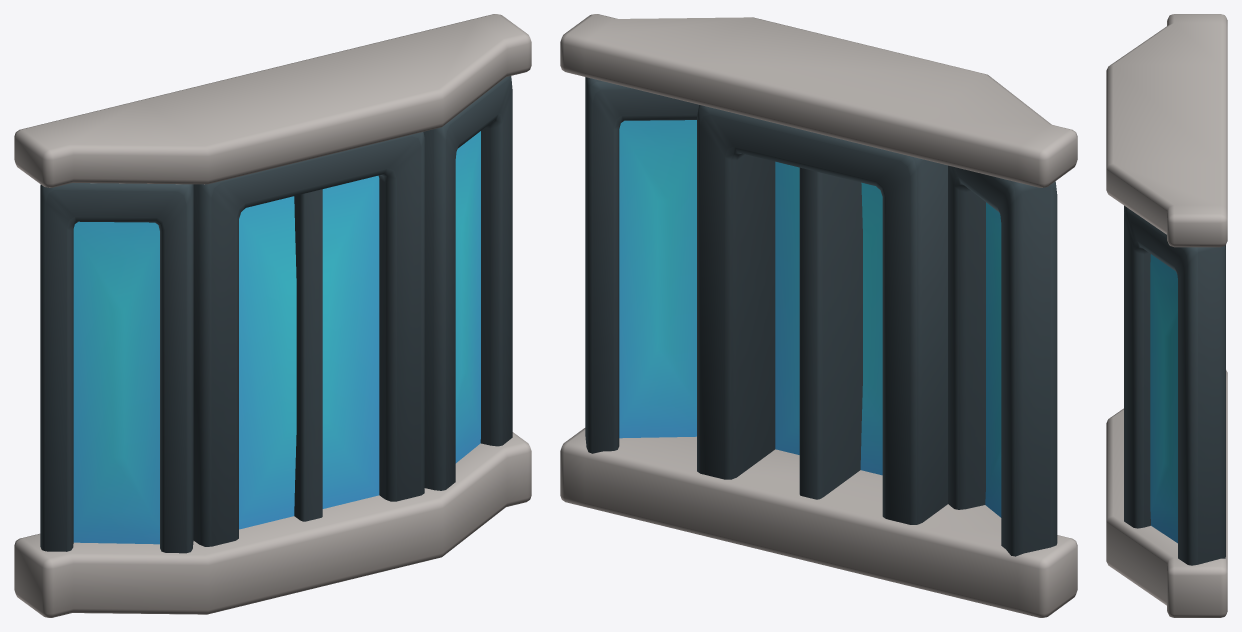
Rendered from mct_homepart_window03.fbx.
3 views of the same model, side by side, from view 1: azimuth 30°, elevation 25°; view 2: azimuth 150°, elevation 25°; view 3: azimuth 270°, elevation 25° (orthographic). The views are drawn at different scales.
Parts seen in each view (by area): view 1: mct_window_03; view 2: mct_window_03; view 3: mct_window_03.
Boxes of the visible parts, bbox=[...] form: mct_window_03: bbox=[14, 14, 531, 617]; mct_window_03: bbox=[560, 14, 1077, 617]; mct_window_03: bbox=[1106, 14, 1227, 617].
Size of the model in its own units: 159 by 146 by 39.88.
